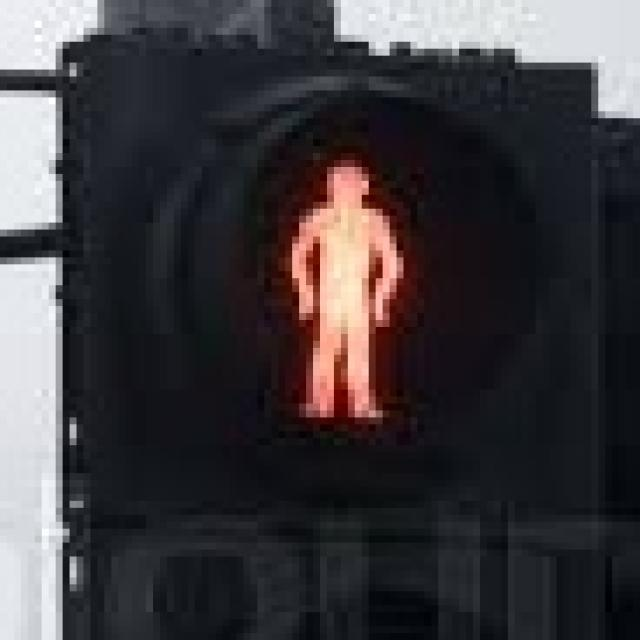red-crossing: (216, 118, 452, 424)
